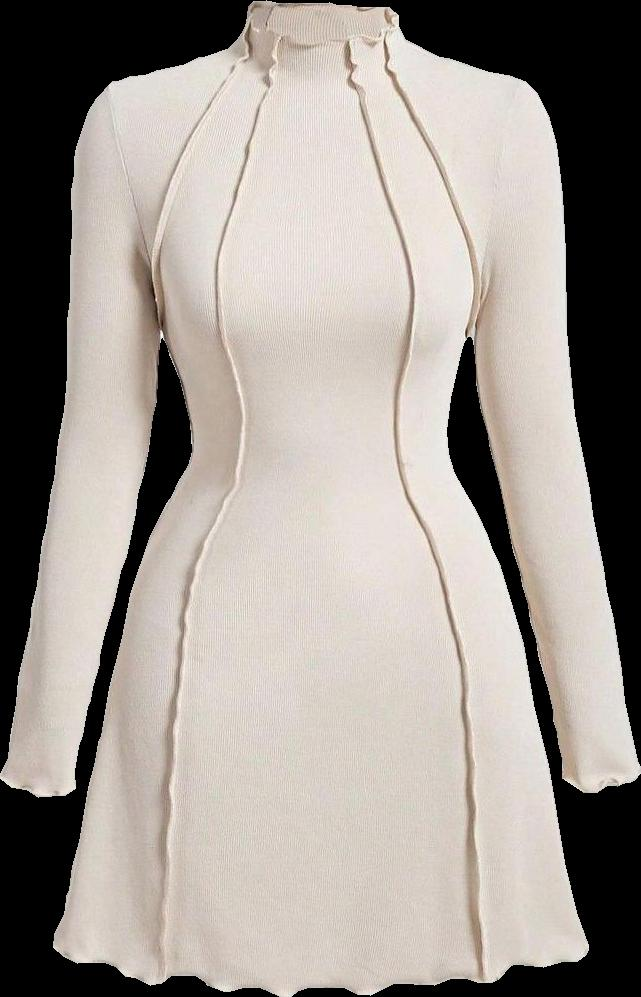Bodice: (111, 1, 512, 470)
Hemline: (48, 938, 596, 996)
Neckline: (245, 14, 397, 51)
Skirt: (53, 463, 588, 996)
Sleeve: (469, 75, 640, 792), (0, 81, 162, 796)
Sleeveline: (110, 78, 169, 322), (474, 75, 520, 319)
